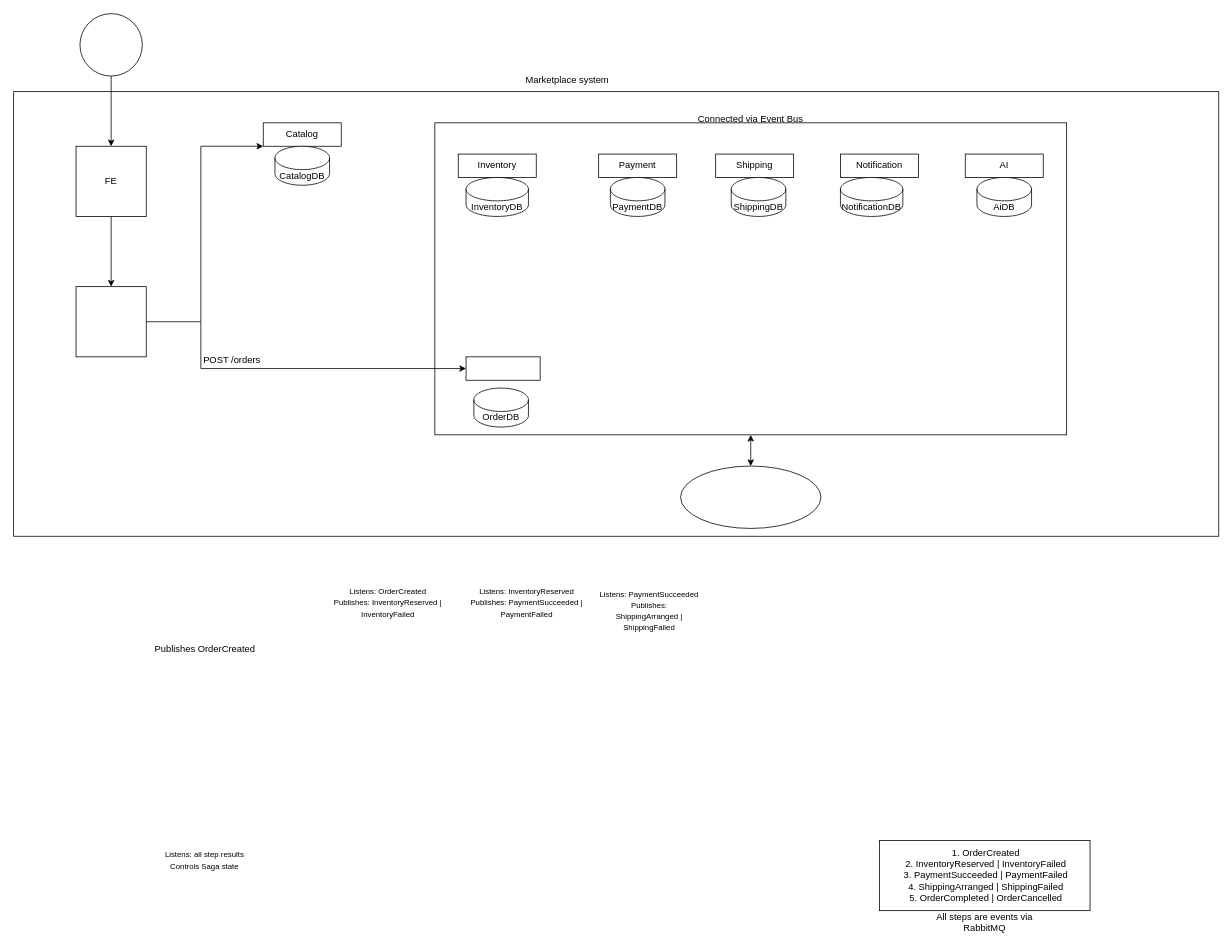
Image size: 1232x948. Some labels were removed from this diagram. Each missing label, with the centre of its shape:
"Order" goes at (x=502, y=368).
"Rabbit MQ Event Bus (publish/subscribe)" goes at (x=750, y=496).
"User/ Browser" goes at (x=110, y=44).
"YARP" goes at (x=110, y=321).
